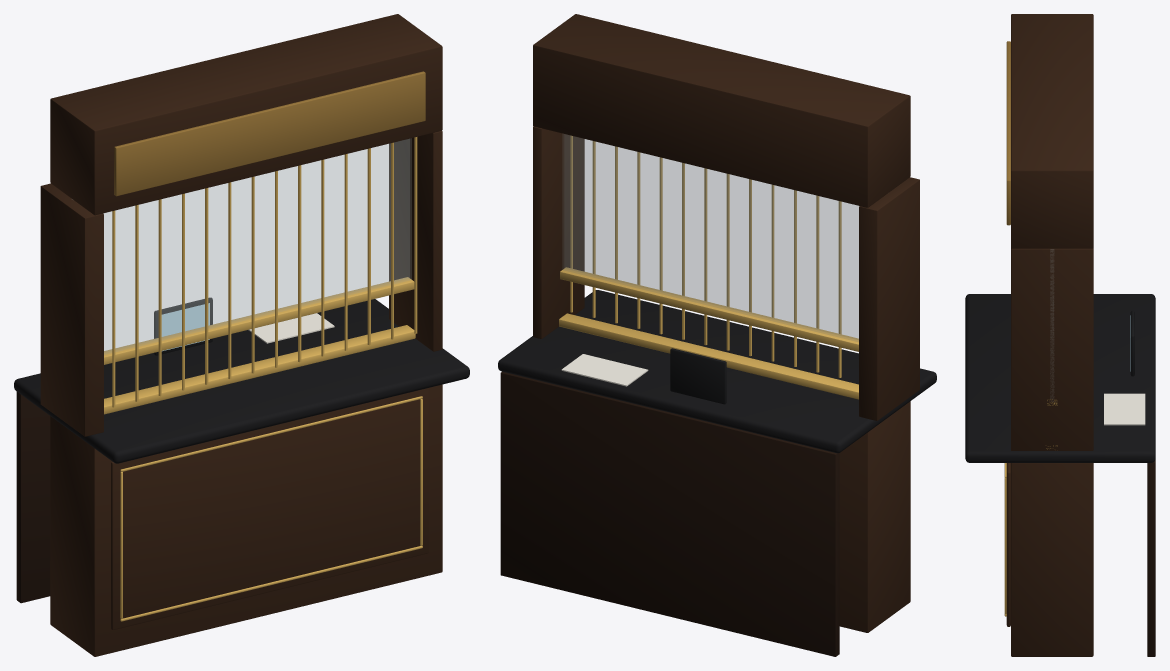
Rendered from tideline_cage_window.glb.
3 renders of one model, left to right at view 1: azimuth 30°, elevation 25°; view 2: azimuth 150°, elevation 25°; view 3: azimuth 270°, elevation 25°, orthographic. The views are drawn at different scales.
Visible parts, largest first — view 1: tideline_cage_window; view 2: tideline_cage_window; view 3: tideline_cage_window.
Part boxes in pixels (left/top/right/bottom): tideline_cage_window: left=14, top=14, right=469, bottom=656; tideline_cage_window: left=498, top=14, right=936, bottom=656; tideline_cage_window: left=965, top=14, right=1155, bottom=656.
Size of the model in its own units: 1.87 by 2.6 by 0.92.
